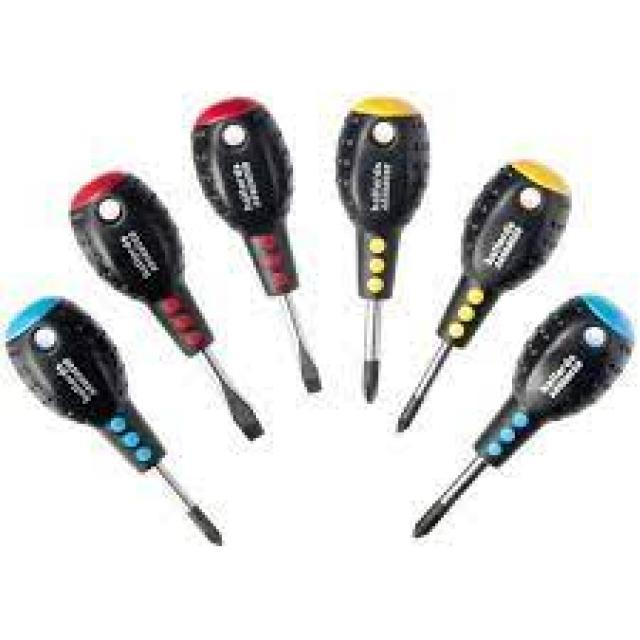screwdriver: (389, 286, 640, 545), (58, 165, 269, 444), (0, 296, 228, 546), (387, 158, 577, 440), (188, 90, 328, 396), (330, 88, 432, 410)
